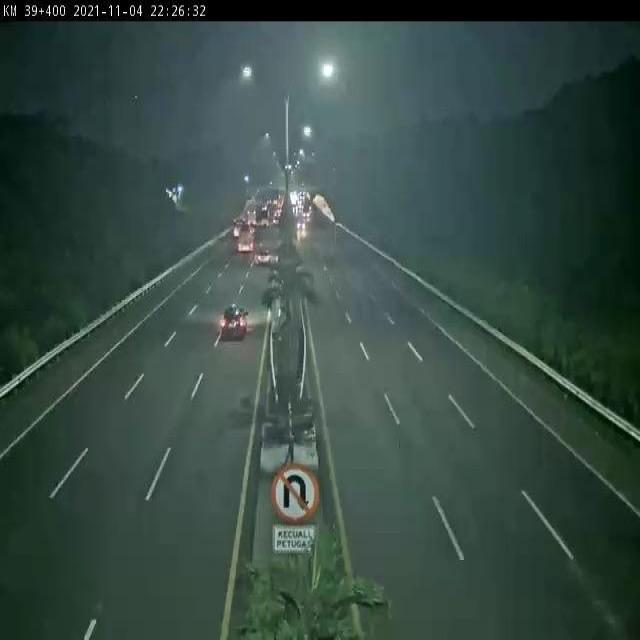car: (211, 293, 260, 348), (255, 241, 277, 271)
